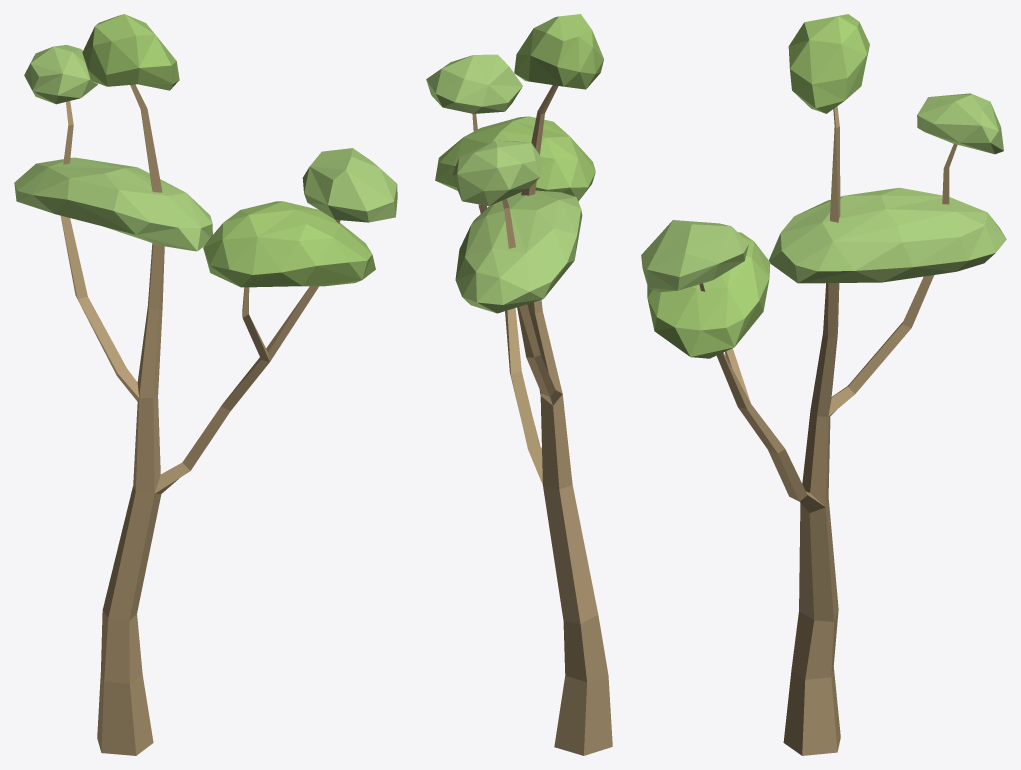
The model's file is Acacia_Tree_l_06_LOD.fbx.
3 views of the same model, side by side, from view 1: azimuth 30°, elevation 25°; view 2: azimuth 150°, elevation 25°; view 3: azimuth 270°, elevation 25° (orthographic). The views are drawn at different scales.
Parts seen in each view (by area): view 1: Acacia_Tree_l_06_LOD0; view 2: Acacia_Tree_l_06_LOD0; view 3: Acacia_Tree_l_06_LOD0.
Boxes of the visible parts, box(x1,y1,x2,y2) form: Acacia_Tree_l_06_LOD0: box(14, 14, 397, 755); Acacia_Tree_l_06_LOD0: box(426, 14, 612, 755); Acacia_Tree_l_06_LOD0: box(641, 14, 1006, 755).
Size of what is drawn, in the model's own units: 365 by 1022 by 461.
